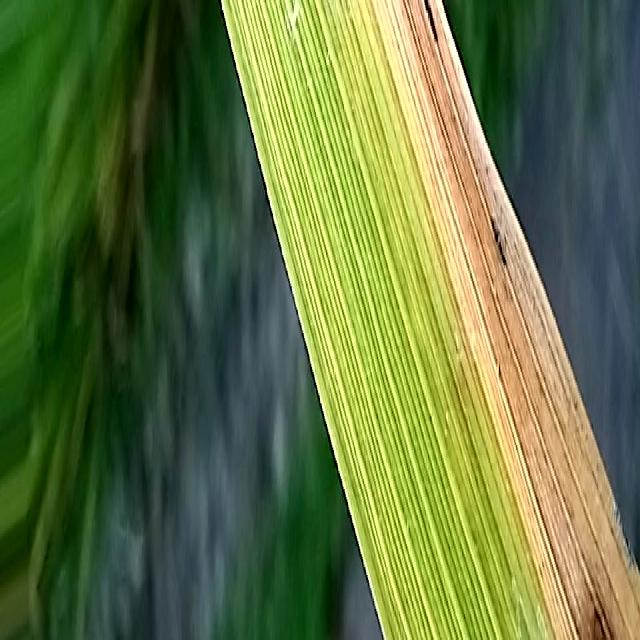LEAF BLAST: (592, 607, 608, 640)
